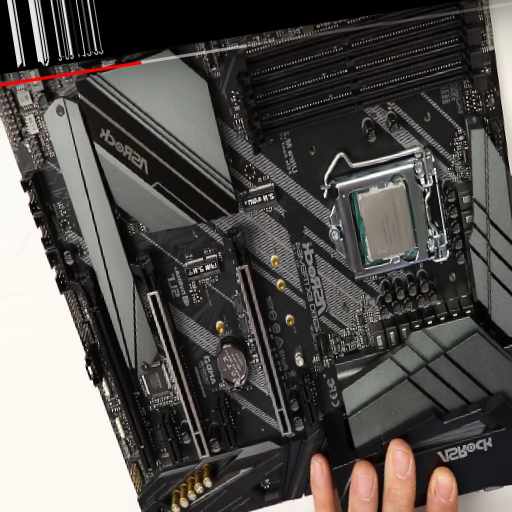CPU: (331, 157, 441, 281)
GPU: (129, 257, 215, 459), (223, 226, 293, 438)
MOTHERBOARD: (6, 5, 509, 510)
RAM: (236, 4, 492, 138)
SSD: (181, 250, 220, 283), (238, 180, 278, 211)
